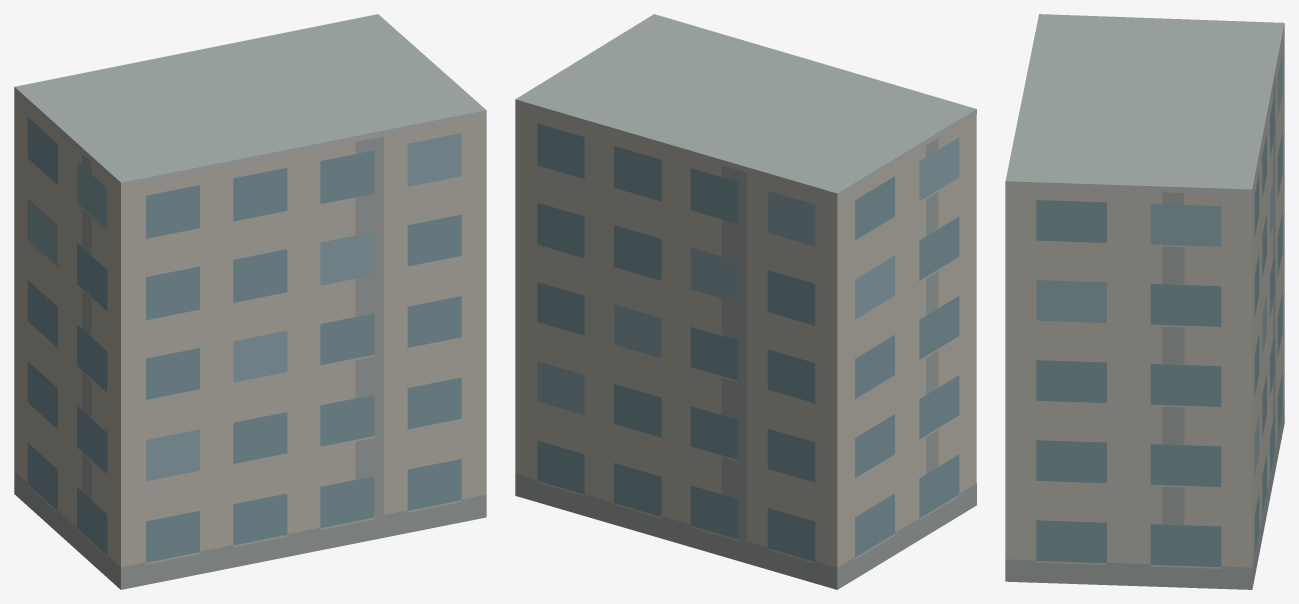
Rendered from survey-upis-32944510.glb.
3 renders of one model, left to right at view 1: azimuth 30°, elevation 25°; view 2: azimuth 150°, elevation 25°; view 3: azimuth 270°, elevation 25°, orthographic. The views are drawn at different scales.
Visible parts, largest first — view 1: survey-upis-32944510.tmp; view 2: survey-upis-32944510.tmp; view 3: survey-upis-32944510.tmp.
Part boxes in pixels (left/top/right/bottom): survey-upis-32944510.tmp: left=14, top=14, right=486, bottom=589; survey-upis-32944510.tmp: left=515, top=14, right=976, bottom=589; survey-upis-32944510.tmp: left=1005, top=14, right=1284, bottom=589.
Bounding box in the file's own units: 15.99 × 17 × 10.75.
